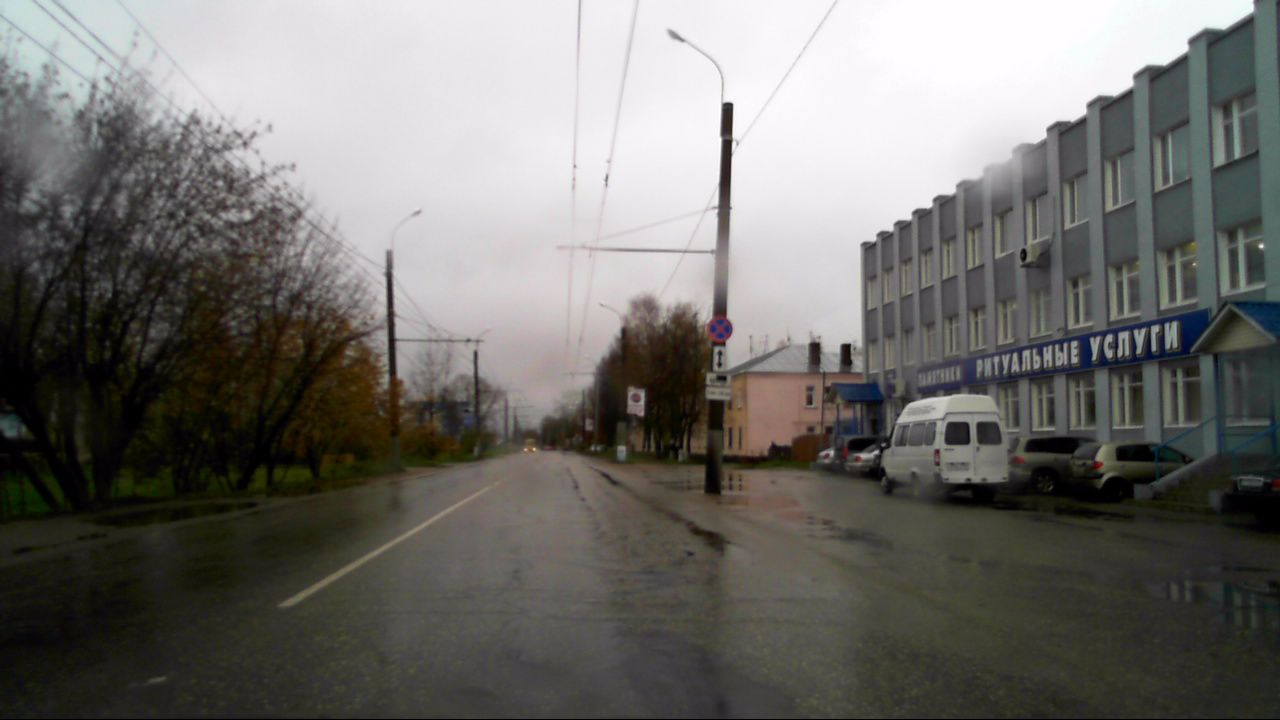No Parking: (705, 314, 734, 342)
